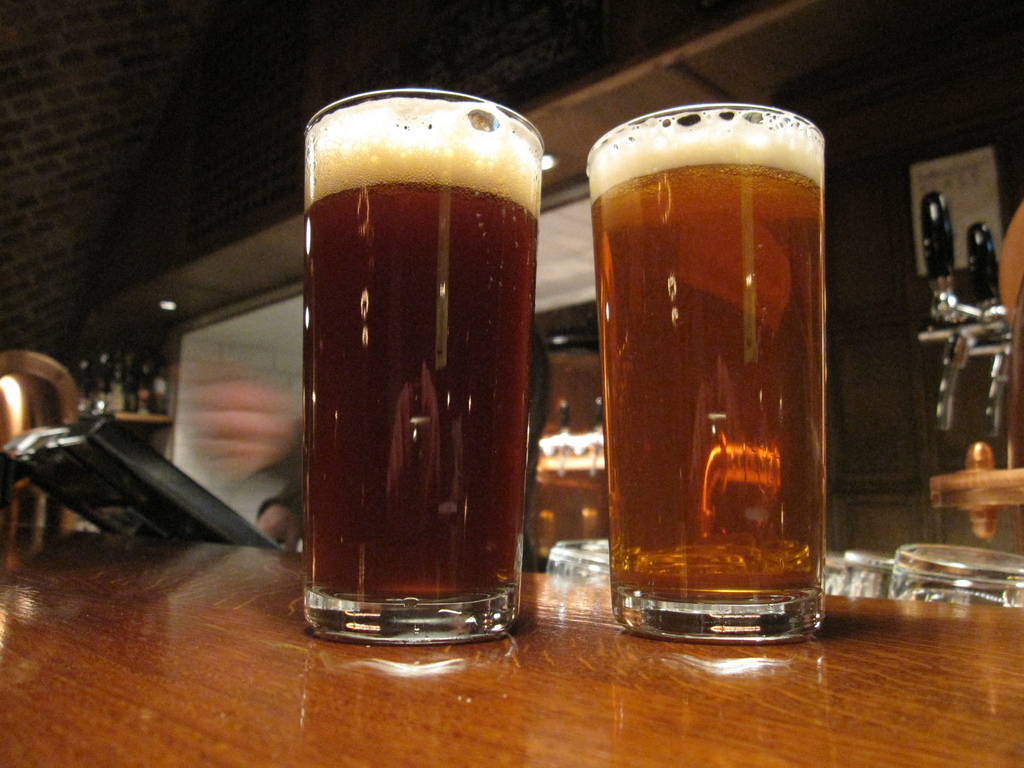Beer: (299, 87, 546, 647), (578, 107, 824, 640)
